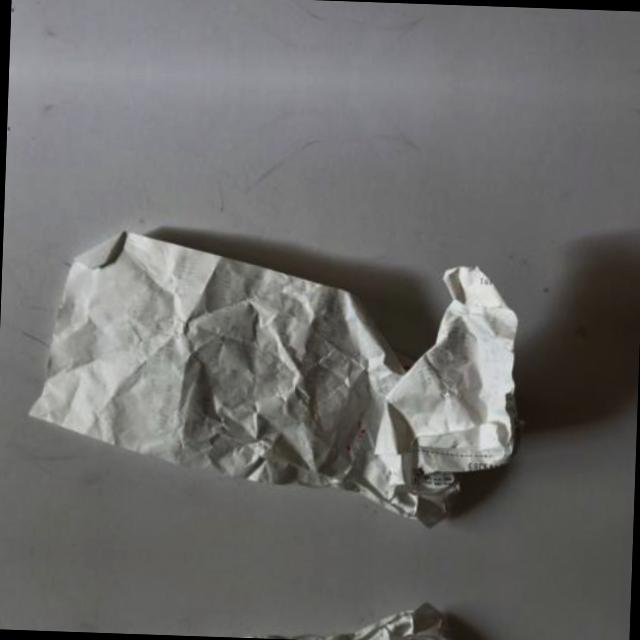paper: (26, 192, 532, 522), (22, 594, 518, 640)
